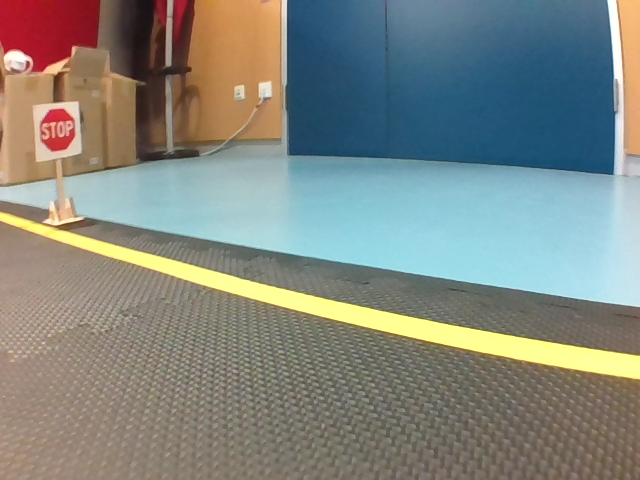30: (366, 37, 450, 130), (124, 108, 150, 132)
no30: (194, 88, 239, 126)
